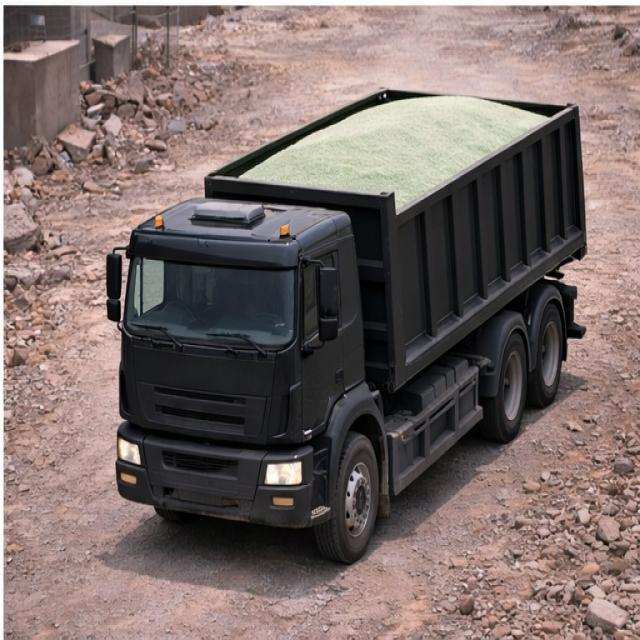Box: (207, 88, 578, 208)
Truck: (114, 85, 613, 548)
